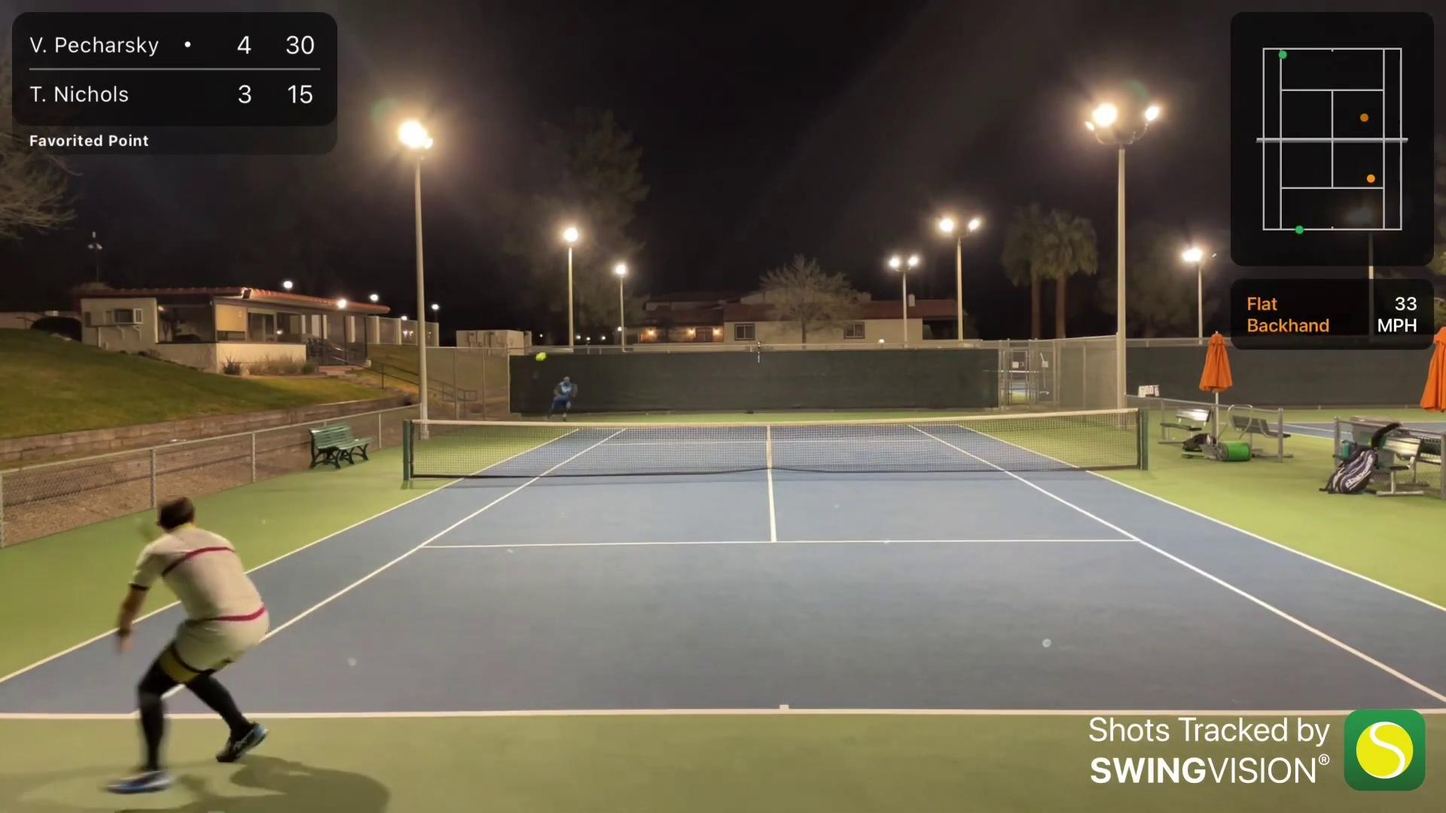ball: (542, 352, 547, 357)
